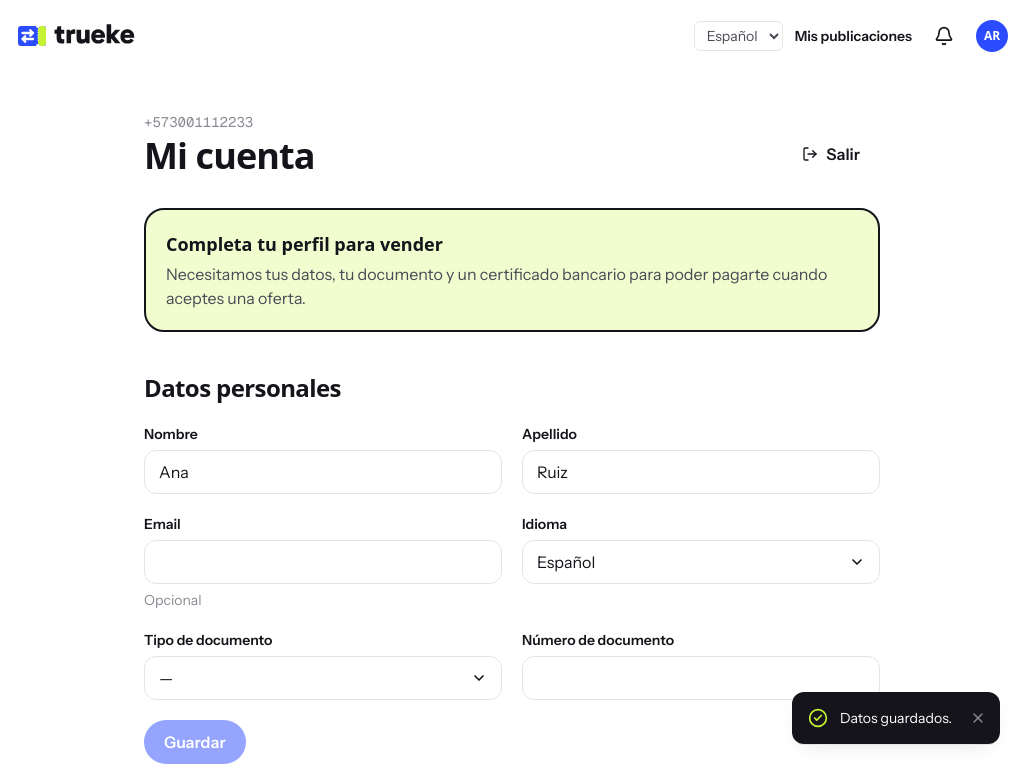
Test: mi cuenta › muestra los errores del servidor en su campo
The image size is (1024, 768).
Expected: the heading "Mi cuenta" is shown, top-left (144, 136), bottom-right (315, 176)
Type "123" into the field labelled "Número de documento". click: (701, 678)
box: top-left (522, 656), bottom-right (880, 700)
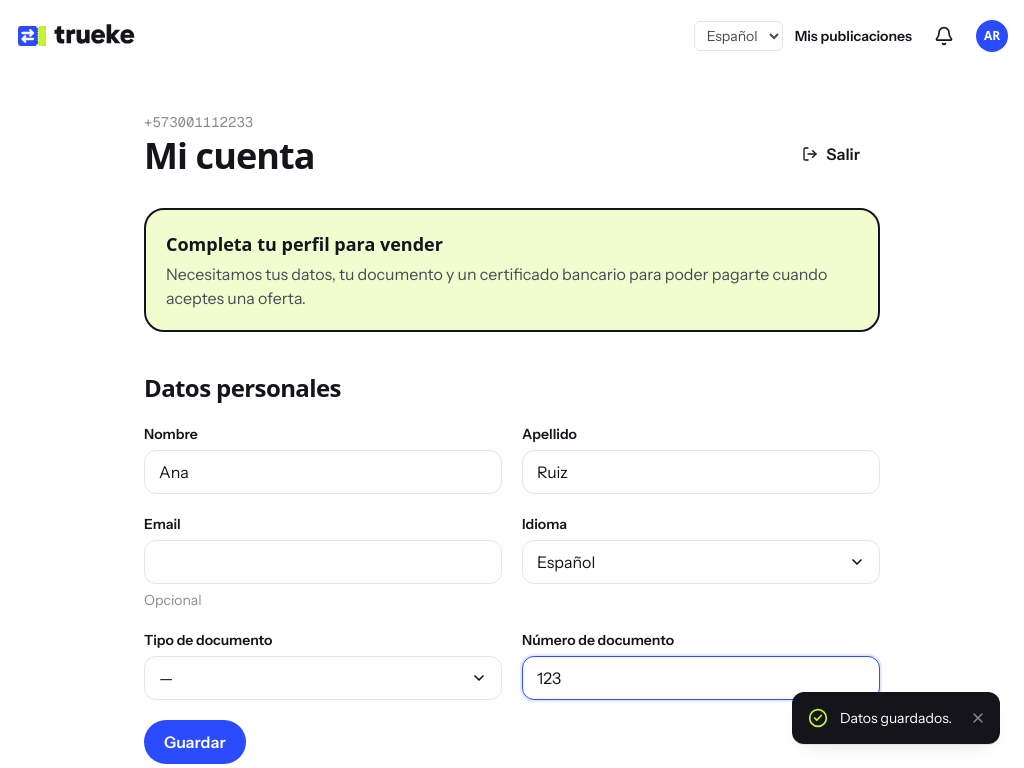
Click the button "Guardar". click: click(195, 742)
box: top-left (144, 720), bottom-right (246, 764)
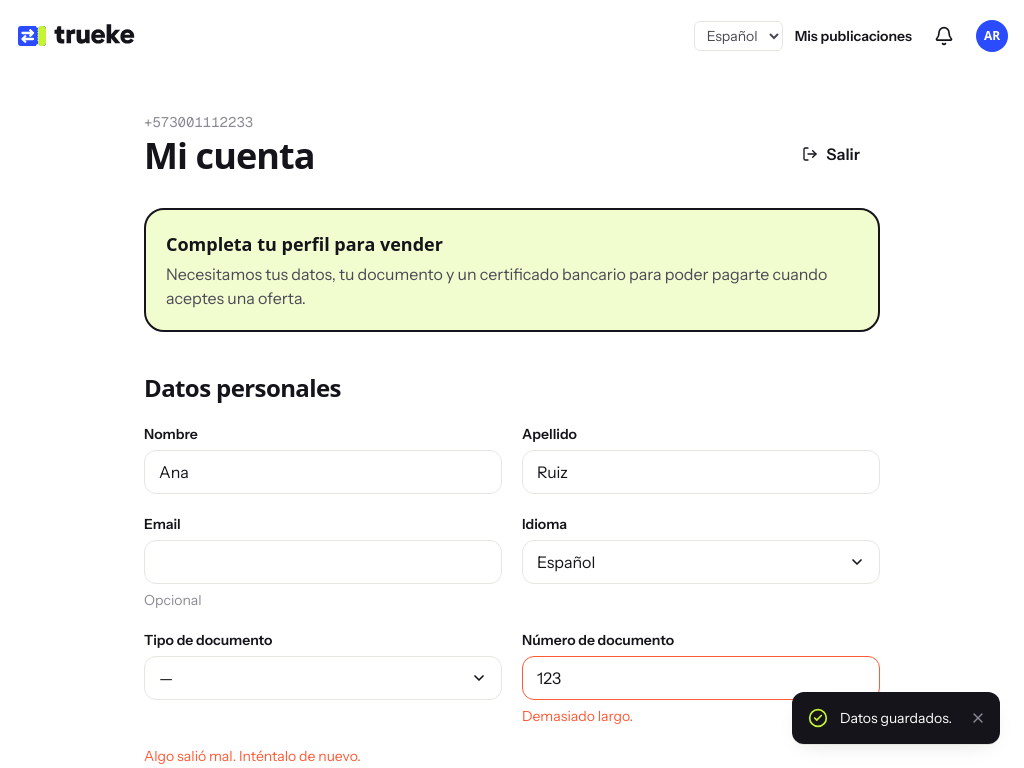
Now the text "Demasiado largo." is shown, box top-left (522, 707), bottom-right (633, 725)
